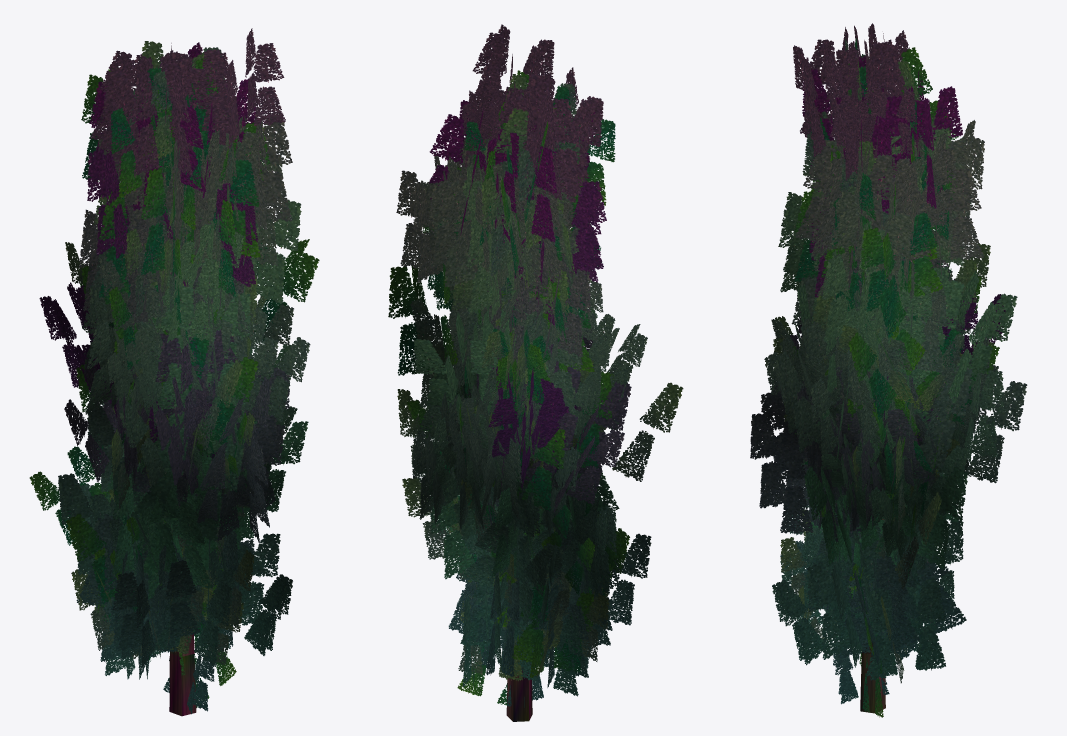
The model's file is nat_cypress_b_LOD1.glb.
3 views of the same model, side by side, from view 1: azimuth 30°, elevation 25°; view 2: azimuth 150°, elevation 25°; view 3: azimuth 270°, elevation 25° (orthographic). The views are drawn at different scales.
Visible parts, largest first — view 1: nat_cypress_b_LOD1; view 2: nat_cypress_b_LOD1; view 3: nat_cypress_b_LOD1.
Boxes of the visible parts, x1,y1,x2,y2 form: nat_cypress_b_LOD1: [29, 28, 319, 716]; nat_cypress_b_LOD1: [388, 24, 683, 721]; nat_cypress_b_LOD1: [750, 23, 1027, 717].
Bounding box in the file's own units: 3.53 × 8.25 × 3.49.
Materials: 2 (2 with a texture image).
